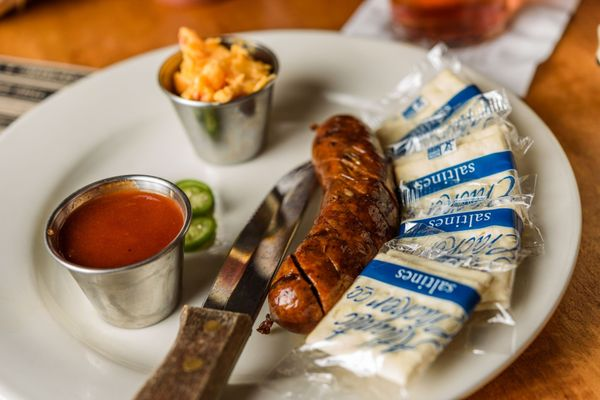pizza: (42, 173, 193, 330)
sandwich: (132, 163, 317, 396), (202, 158, 314, 309)
sushi: (155, 29, 281, 166)
